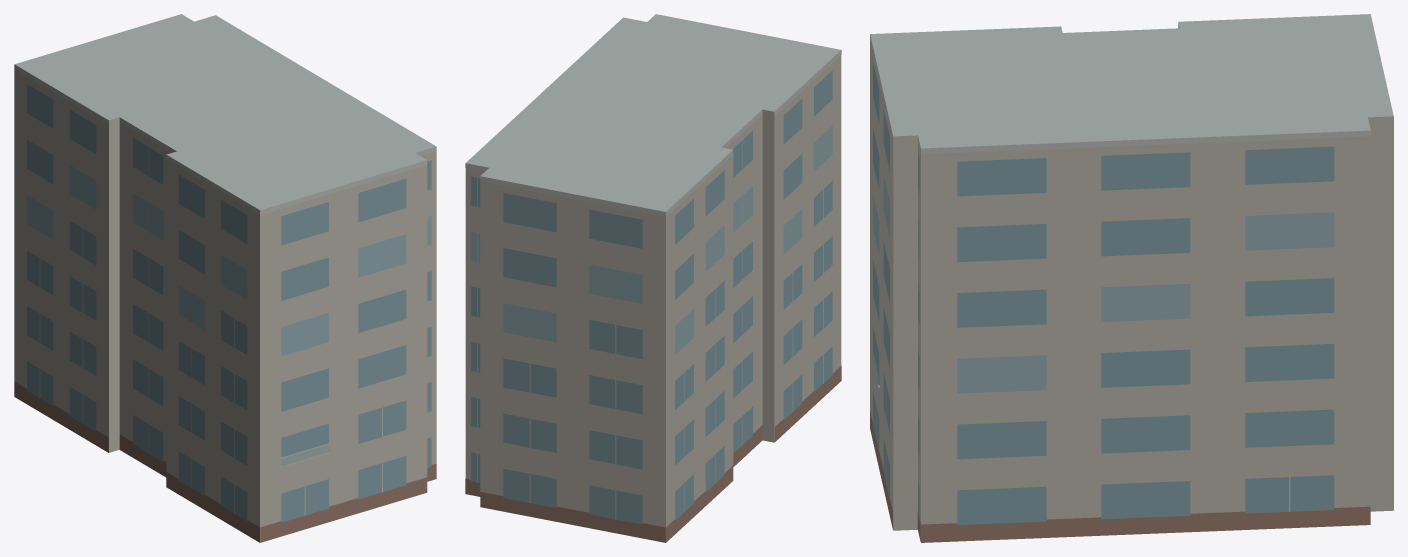
File: survey-upis-32995324.glb
3 views of the same model, side by side, from view 1: azimuth 30°, elevation 25°; view 2: azimuth 150°, elevation 25°; view 3: azimuth 270°, elevation 25° (orthographic). The views are drawn at different scales.
Parts seen in each view (by area): view 1: survey-upis-32995324.tmp; view 2: survey-upis-32995324.tmp; view 3: survey-upis-32995324.tmp.
Boxes of the visible parts, x1,y1,x2,y2 form: survey-upis-32995324.tmp: (14, 14, 436, 542); survey-upis-32995324.tmp: (465, 14, 841, 542); survey-upis-32995324.tmp: (870, 14, 1393, 542).
Bounding box in the file's own units: 12.22 × 16.7 × 20.11.
